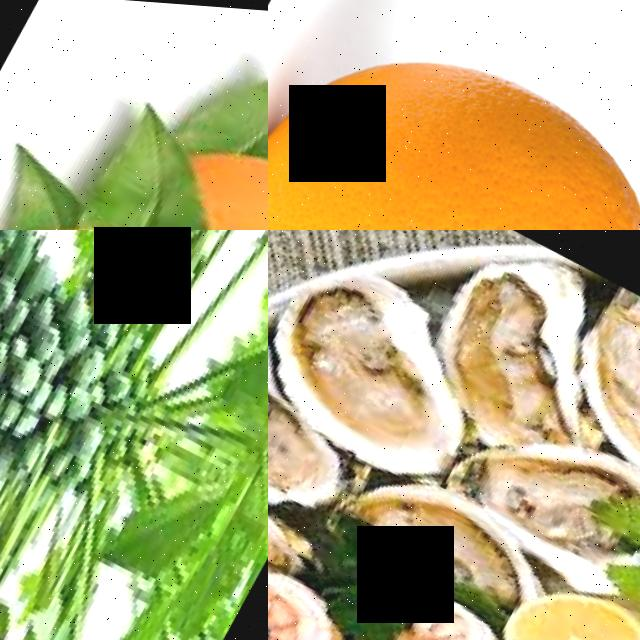lemon: (499, 557, 640, 640)
orange: (268, 0, 640, 230)
oysters: (268, 252, 523, 487), (440, 233, 637, 442), (448, 398, 640, 590), (268, 290, 388, 520), (550, 274, 640, 486)
shrimp: (355, 569, 532, 640), (268, 556, 373, 640)
